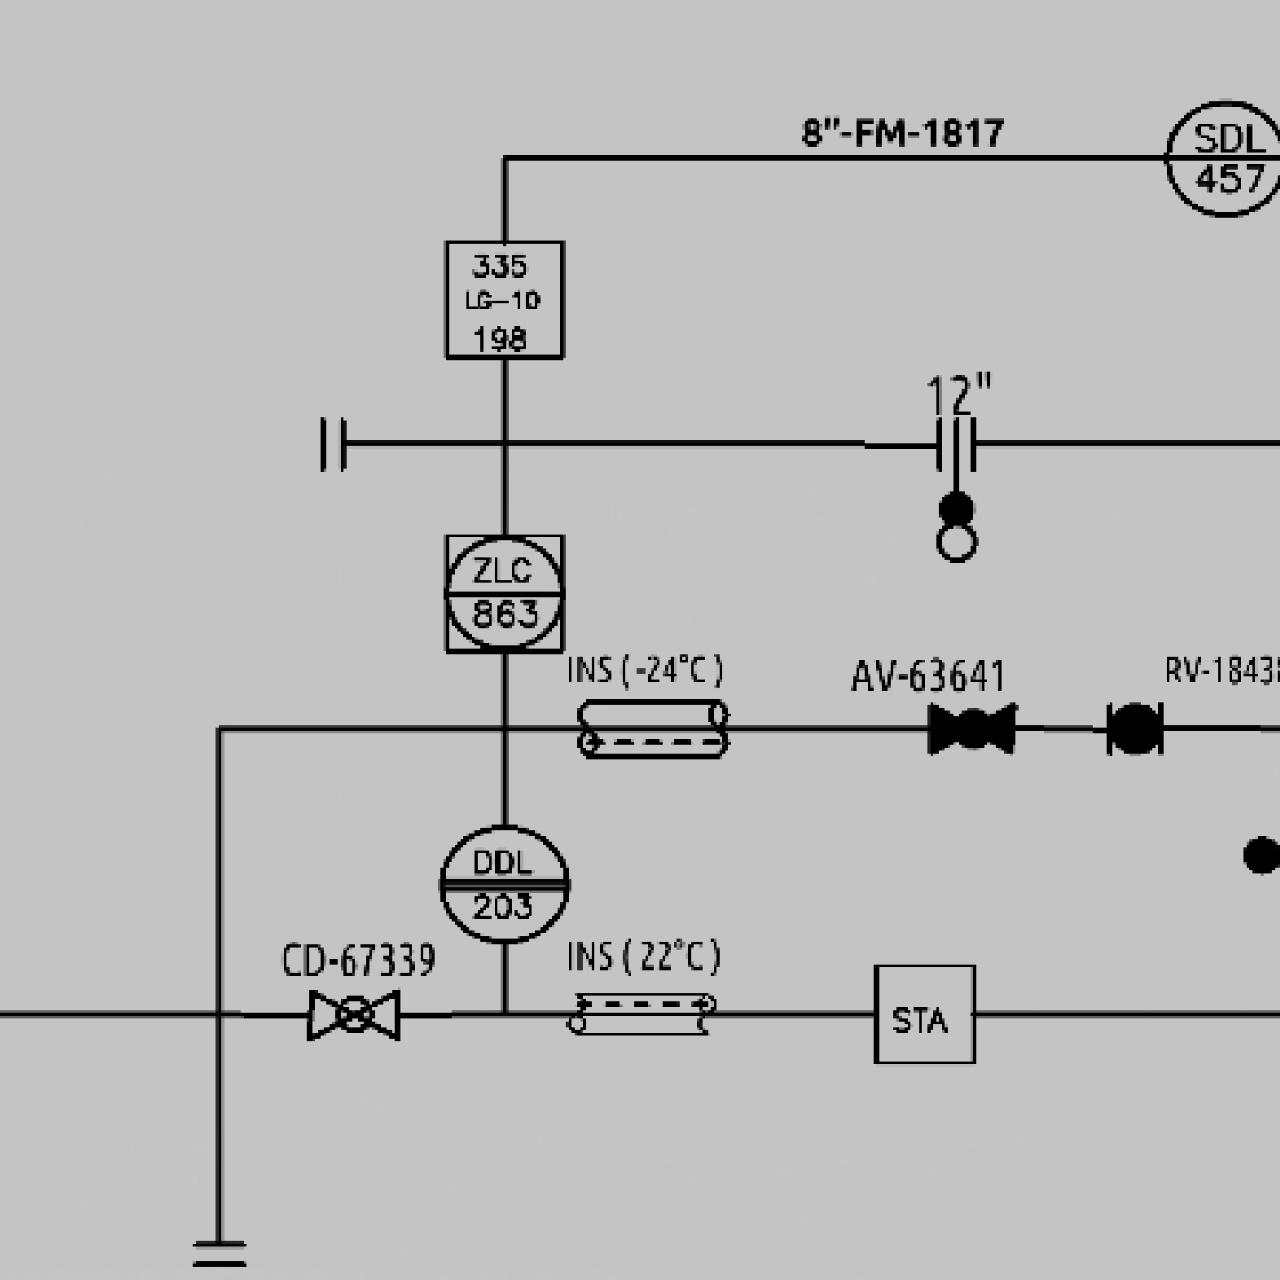Control-Panel: (434, 813, 573, 953)
